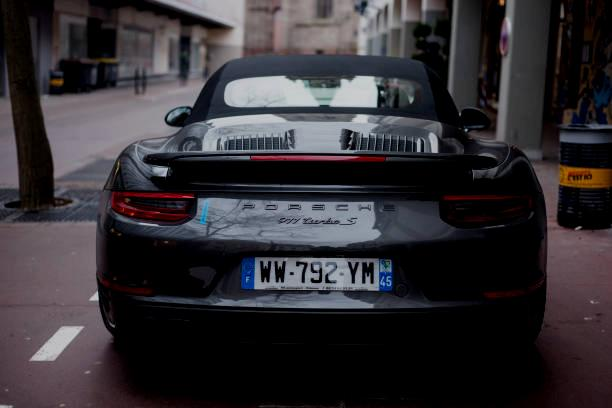porsche: (234, 199, 403, 217)
